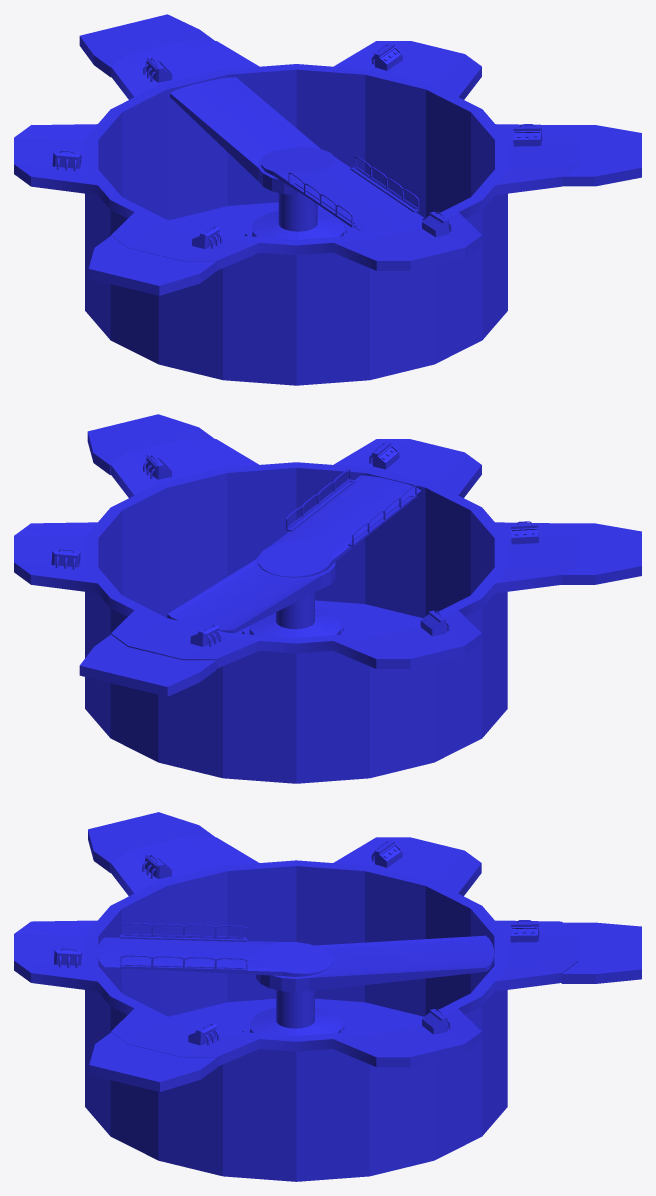
File: RotateBridgeFIN.fbx
3 views of the same model, one above another, from view 1: azimuth 30°, elevation 25°; view 2: azimuth 150°, elevation 25°; view 3: azimuth 270°, elevation 25° (orthographic).
Visible parts, largest first — view 1: Cylinder260, Cylinder258, Cylinder259, Object014, Object013, Object012, Object011, Box305, Box156, Box310, Box309, Box158; view 2: Cylinder260, Cylinder259, Cylinder258, Object012, Object014, Object013, Object011, Box305, Box156, Box306, Box158, Box307; view 3: Cylinder260, Cylinder258, Cylinder259, Object013, Object012, Object014, Object011, Box156, Box305, Box308, Box307, Box309.
Boxes of the visible parts, left/top/right/bottom form: Cylinder260: left=14, top=41, right=579, bottom=385; Cylinder258: left=170, top=77, right=352, bottom=236; Cylinder259: left=261, top=147, right=423, bottom=232; Object014: left=88, top=235, right=216, bottom=295; Object013: left=562, top=125, right=641, bottom=186; Object012: left=79, top=14, right=214, bottom=77; Object011: left=252, top=210, right=343, bottom=239; Box305: left=350, top=156, right=419, bottom=212; Box156: left=288, top=172, right=357, bottom=227; Box310: left=513, top=124, right=542, bottom=146; Box309: left=371, top=43, right=402, bottom=70; Box158: left=422, top=211, right=451, bottom=237; Cylinder260: left=14, top=439, right=578, bottom=783; Cylinder259: left=258, top=475, right=421, bottom=577; Cylinder258: left=167, top=555, right=350, bottom=634; Object012: left=79, top=634, right=216, bottom=696; Object014: left=562, top=523, right=641, bottom=584; Object013: left=87, top=414, right=214, bottom=475; Object011: left=249, top=608, right=341, bottom=637; Box305: left=286, top=469, right=354, bottom=531; Box156: left=348, top=485, right=416, bottom=546; Box306: left=510, top=521, right=538, bottom=544; Box158: left=369, top=441, right=399, bottom=469; Box307: left=420, top=610, right=449, bottom=636; Cylinder260: left=14, top=837, right=578, bottom=1181; Cylinder258: left=242, top=935, right=494, bottom=1032; Cylinder259: left=98, top=937, right=332, bottom=976; Object013: left=89, top=1032, right=217, bottom=1091; Object012: left=561, top=922, right=641, bottom=983; Object014: left=88, top=812, right=215, bottom=872; Object011: left=250, top=1007, right=341, bottom=1035; Box156: left=120, top=922, right=247, bottom=941; Box305: left=120, top=955, right=247, bottom=971; Box308: left=510, top=920, right=539, bottom=942; Box307: left=371, top=840, right=402, bottom=867; Box309: left=422, top=1009, right=450, bottom=1034.
Size of the model in its own units: 1787 by 487 by 1756.
